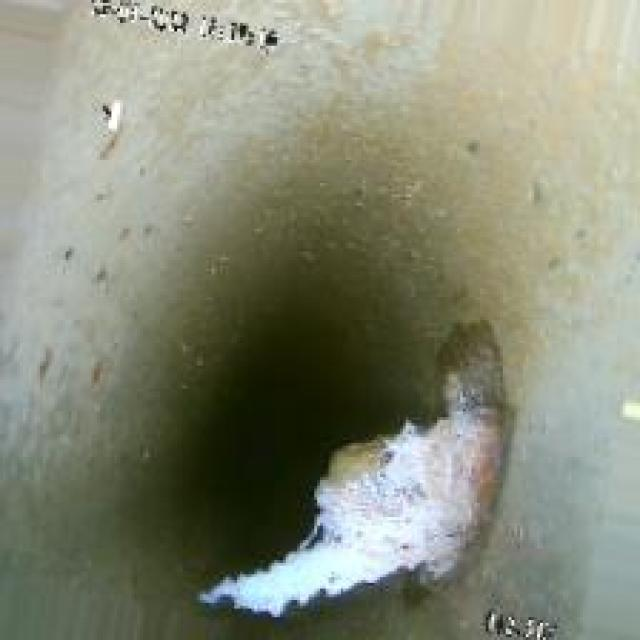ferrule: (288, 366, 508, 583)
